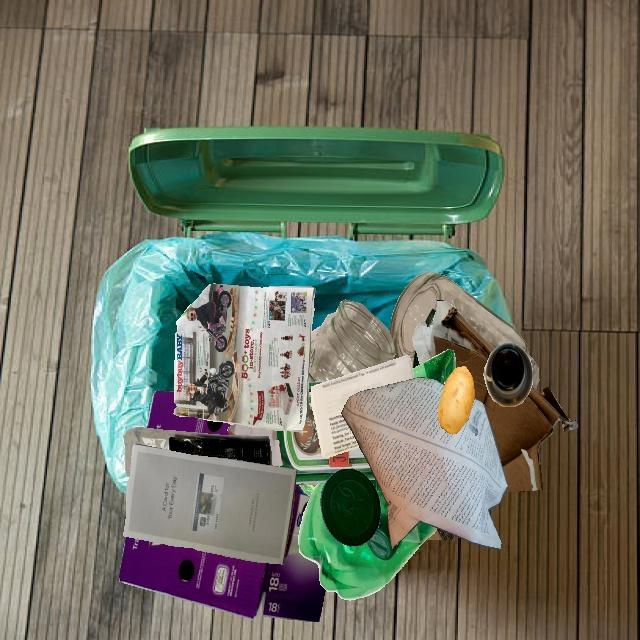biowaste: (438, 366, 475, 434), (204, 419, 204, 419)
cardboard: (412, 300, 578, 492), (119, 485, 325, 622), (425, 528, 455, 540)
glass: (389, 272, 539, 389), (277, 381, 376, 483), (308, 300, 395, 382), (483, 343, 533, 407)
paper: (342, 377, 508, 549), (174, 283, 316, 432), (123, 443, 297, 564), (311, 355, 414, 458), (227, 424, 283, 467)
plastic: (298, 479, 437, 600), (123, 427, 272, 477), (320, 468, 381, 546), (412, 349, 456, 385), (299, 485, 316, 497)
